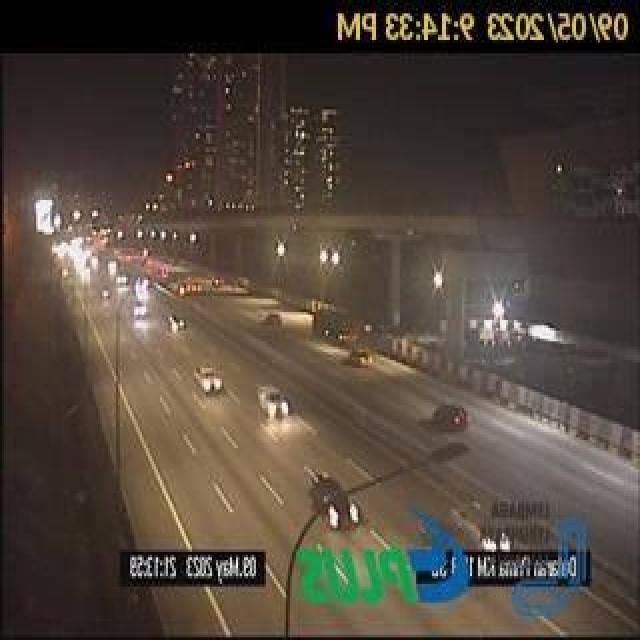Car: (308, 474, 366, 534), (257, 382, 291, 420), (429, 402, 471, 432), (193, 362, 225, 396), (346, 348, 372, 371), (166, 315, 188, 336)
